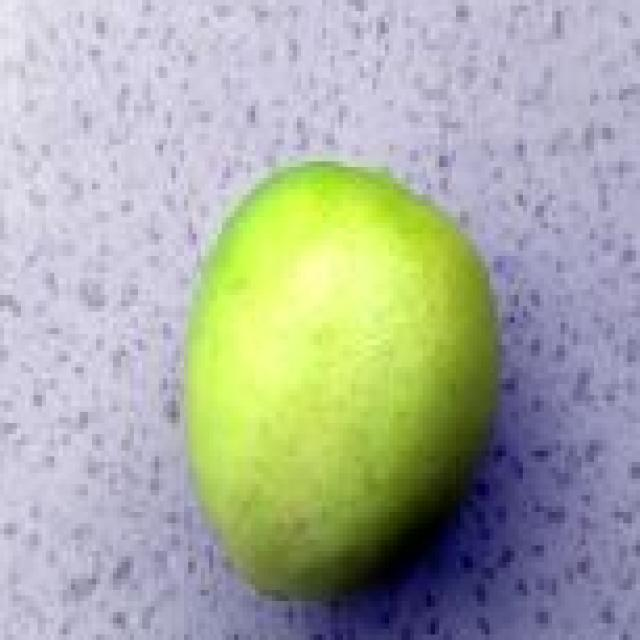Good_Lime-10-21-days: (176, 161, 502, 607)
